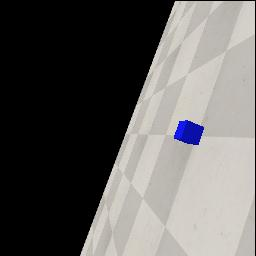box: (174, 120, 204, 145)
